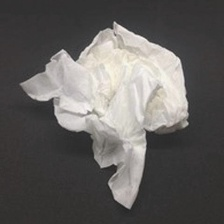tissue: (13, 14, 198, 214)
